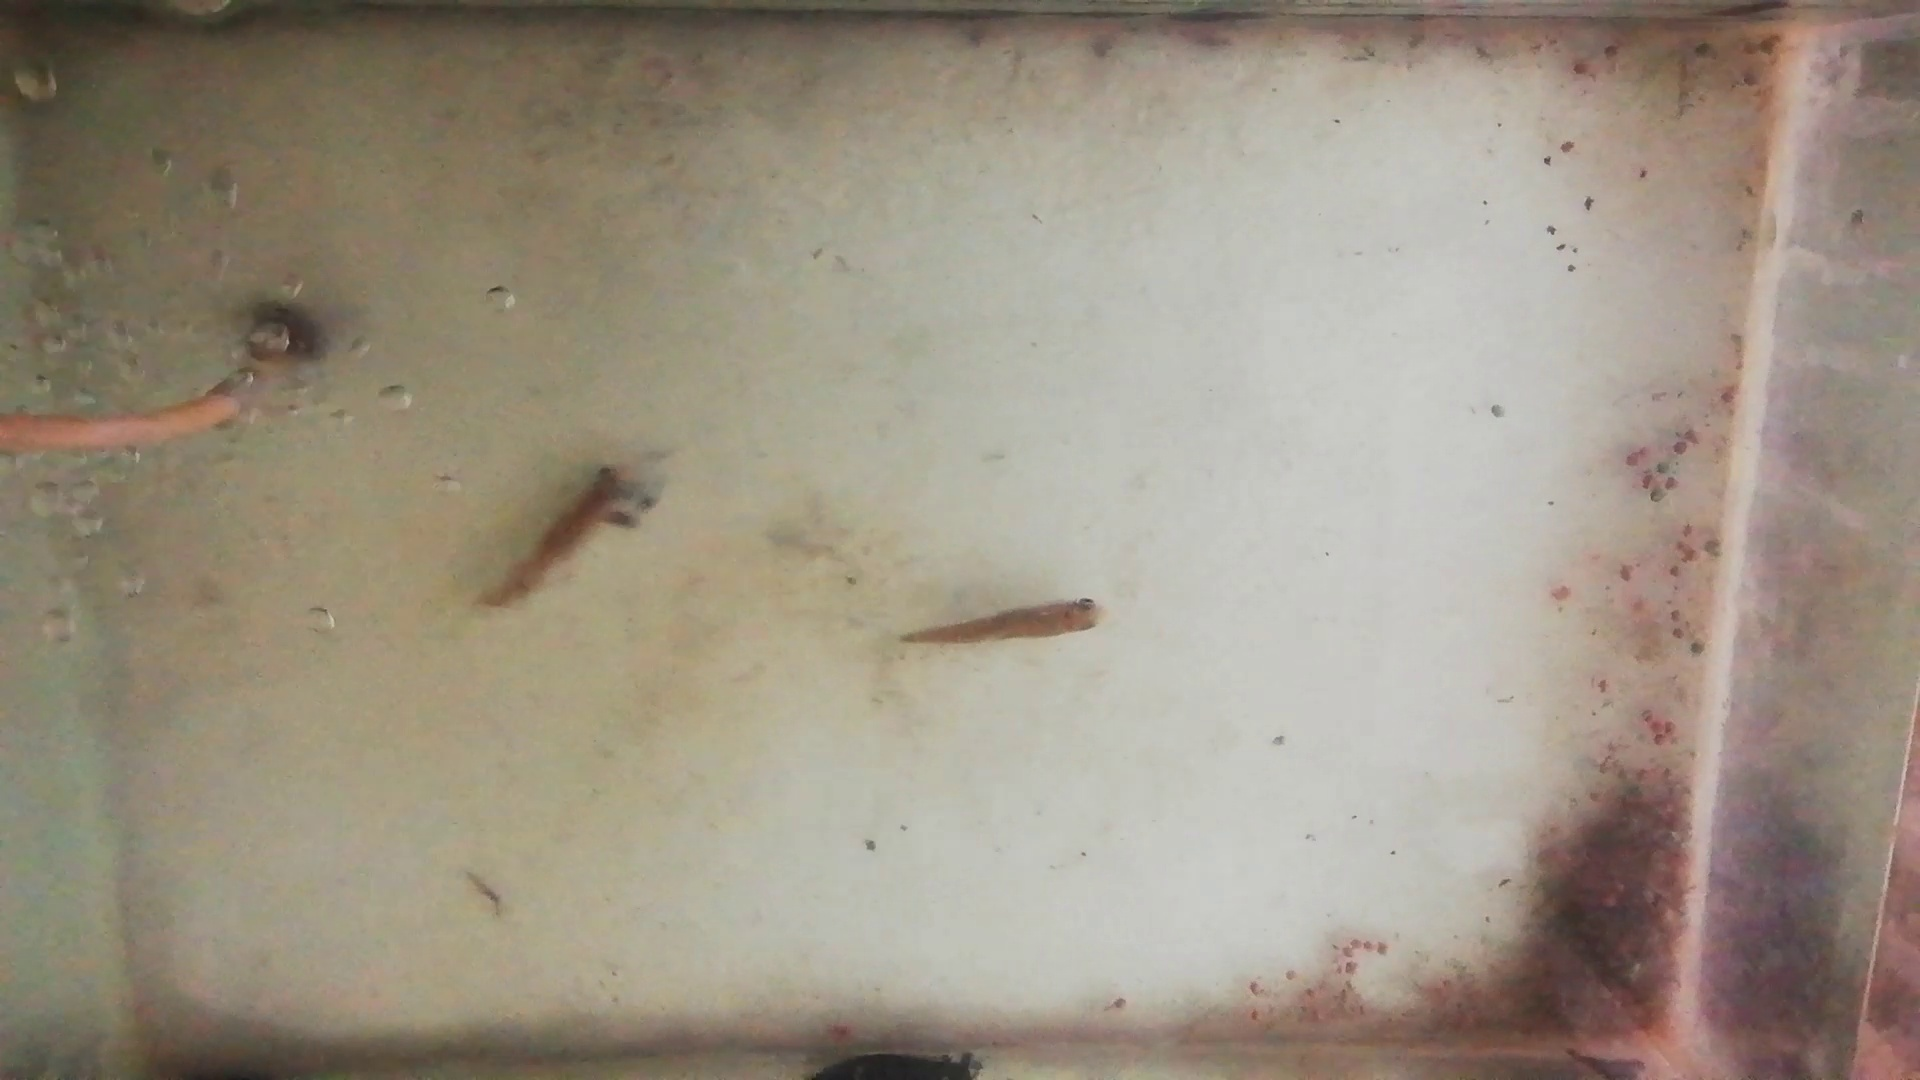fish: (473, 465, 624, 611), (899, 599, 1108, 646)
